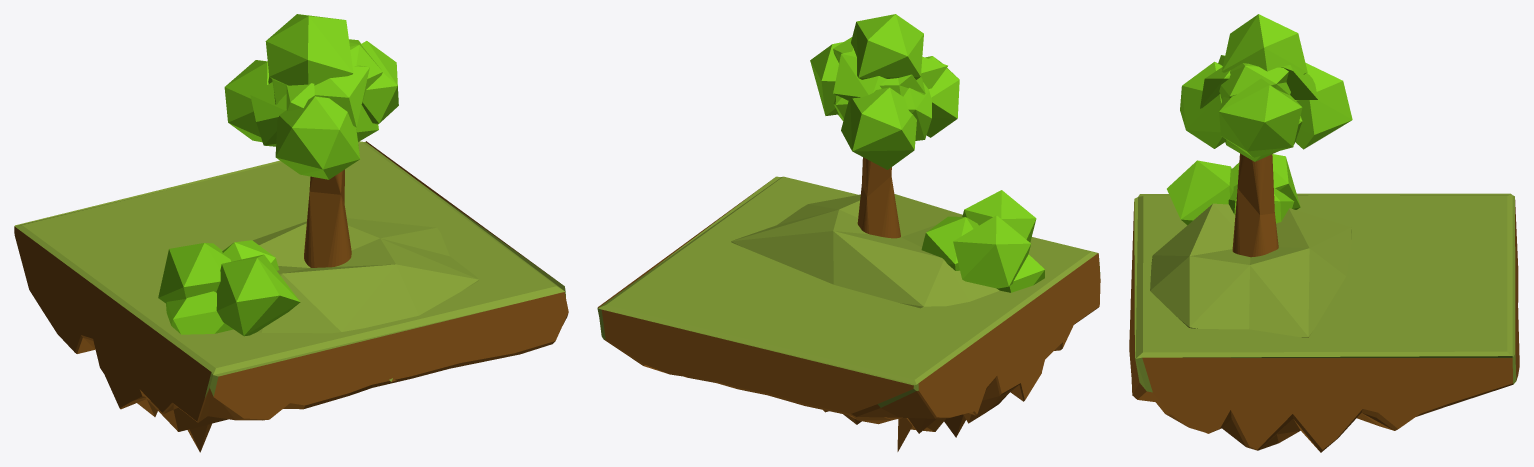
File: island.fbx
3 renders of one model, left to right at view 1: azimuth 30°, elevation 25°; view 2: azimuth 150°, elevation 25°; view 3: azimuth 270°, elevation 25°, orthographic. The views are drawn at different scales.
Visible parts, largest first — view 1: Ground, Tree, Bush; view 2: Ground, Tree, Bush; view 3: Ground, Tree, Bush.
Part boxes in pixels (x1,y1,x2,y2): Ground: (14,141,568,452); Tree: (224,14,398,267); Bush: (158,240,300,336); Ground: (597,176,1100,451); Tree: (810,14,959,238); Bush: (921,190,1044,292); Ground: (1129,193,1519,452); Tree: (1180,14,1352,257); Bush: (1167,154,1300,225).
Bounding box in the file's own units: 1762 × 1865 × 1635.
